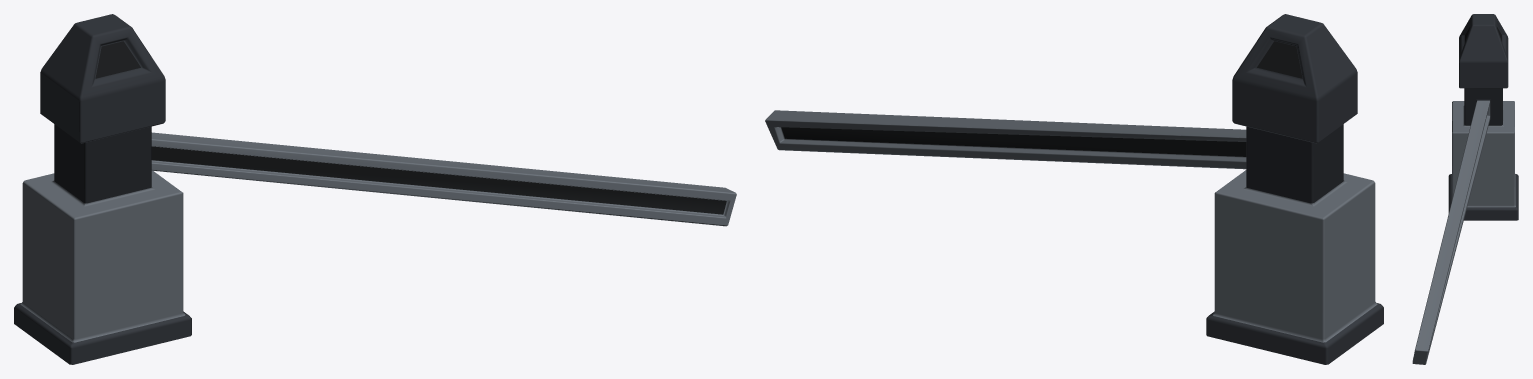
The model's file is barrier.fbx.
The picture shows the model from 3 angles, left to right: view 1: azimuth 30°, elevation 25°; view 2: azimuth 150°, elevation 25°; view 3: azimuth 270°, elevation 25°; orthographic projection. The views are drawn at different scales.
Visible parts, largest first — view 1: Cube.007; view 2: Cube.007; view 3: Cube.007.
Part boxes in pixels (x1,y1,x2,y2): Cube.007: (14, 14, 736, 364); Cube.007: (765, 14, 1383, 364); Cube.007: (1412, 14, 1518, 364).
Bounding box in the file's own units: 578 × 264 × 138.
